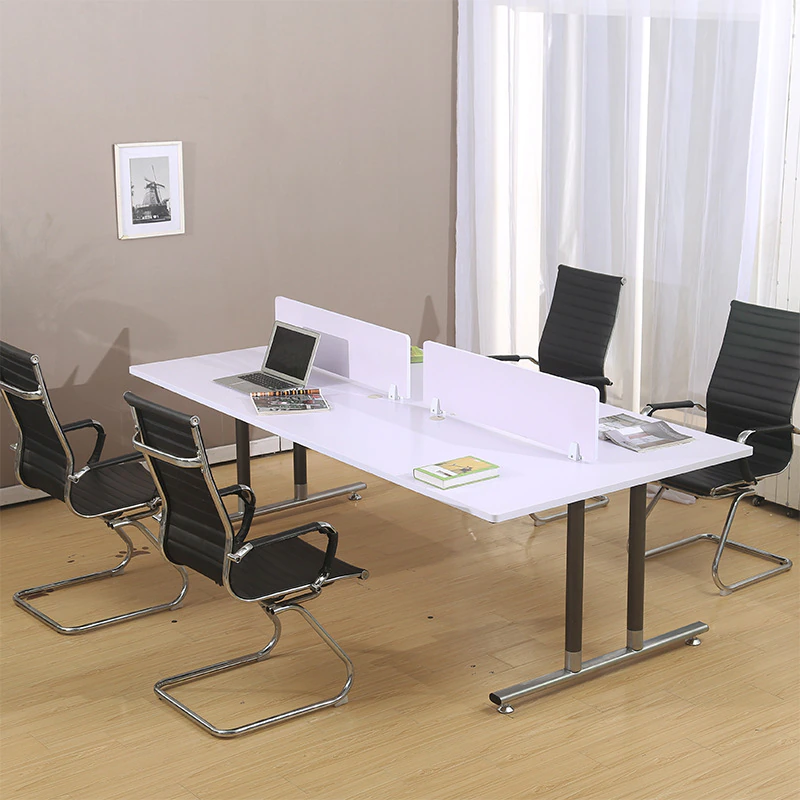conference_table: (127, 296, 752, 713)
